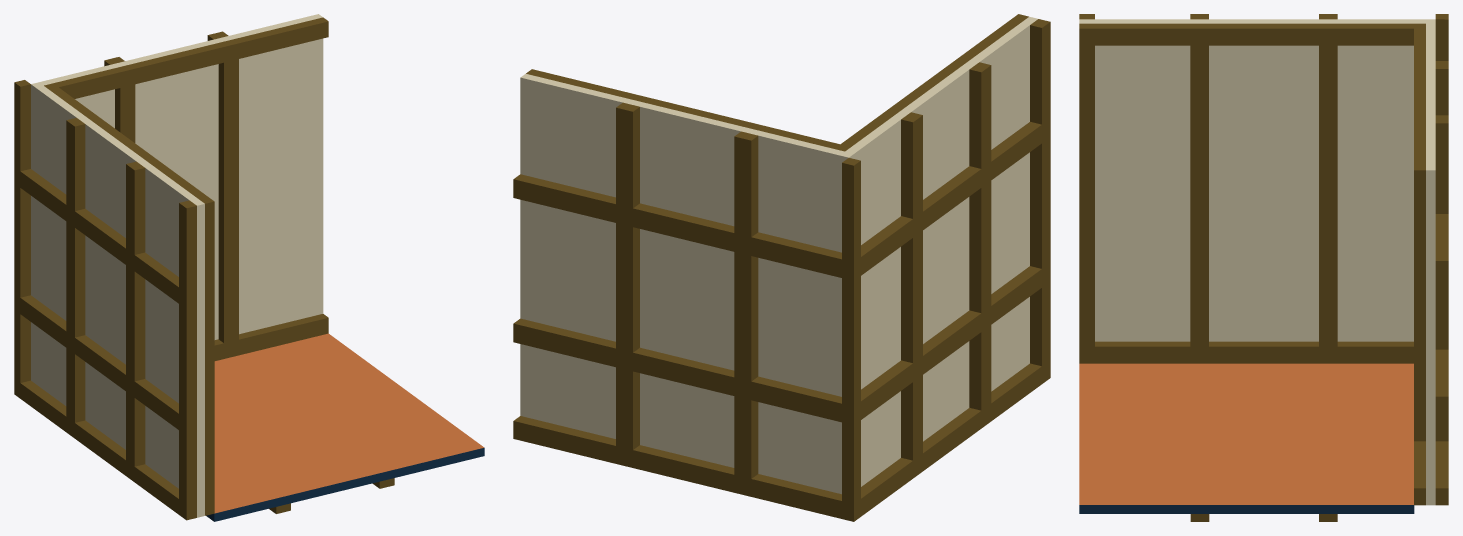
The model's file is CornerWallWF.fbx.
3 views of the same model, side by side, from view 1: azimuth 30°, elevation 25°; view 2: azimuth 150°, elevation 25°; view 3: azimuth 270°, elevation 25° (orthographic). The views are drawn at different scales.
Parts seen in each view (by area): view 1: pCube140; view 2: pCube140; view 3: pCube140.
Part boxes in pixels (left/top/right/bottom): pCube140: left=14, top=14, right=484, bottom=521; pCube140: left=513, top=14, right=1050, bottom=521; pCube140: left=1079, top=14, right=1448, bottom=521.
Size of the model in its own units: 3 by 3.15 by 3.
